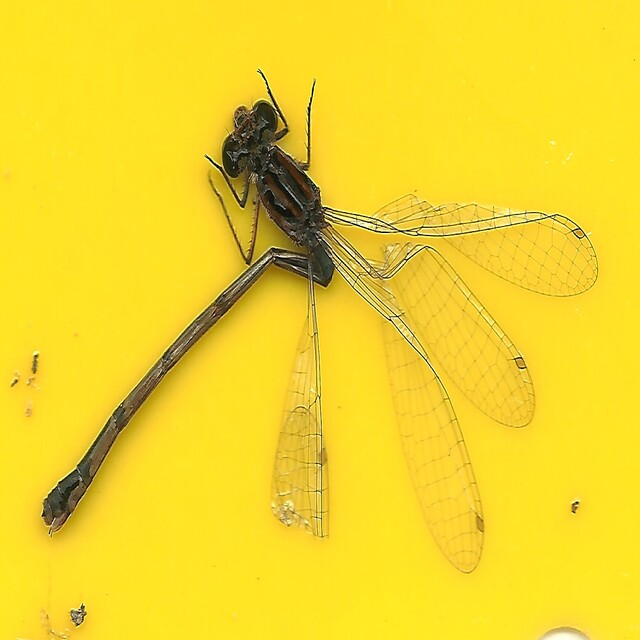Odonata: (41, 63, 599, 577)
